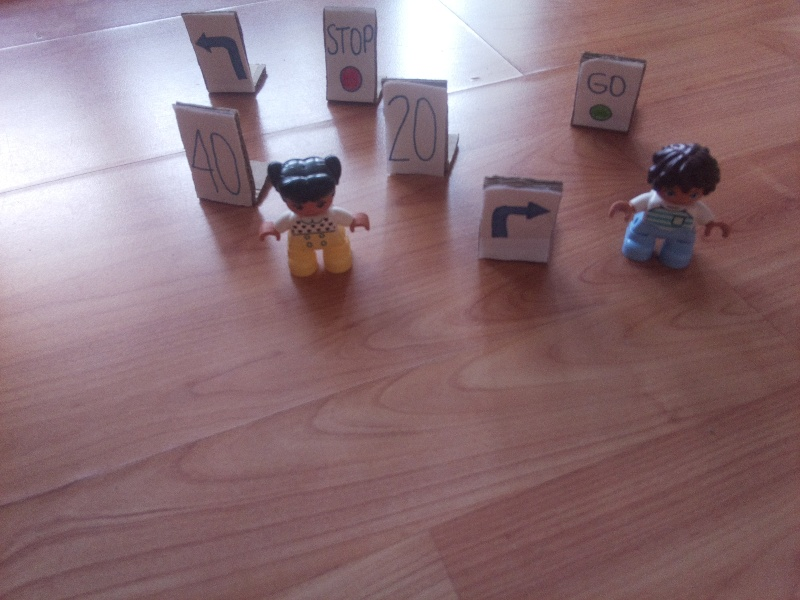20: (384, 93, 441, 167)
40: (184, 123, 244, 200)
go: (581, 66, 628, 128)
person: (260, 155, 373, 289), (615, 145, 721, 276)
stop: (324, 21, 372, 93)
turn left: (194, 31, 251, 84)
turn right: (490, 195, 549, 250)
